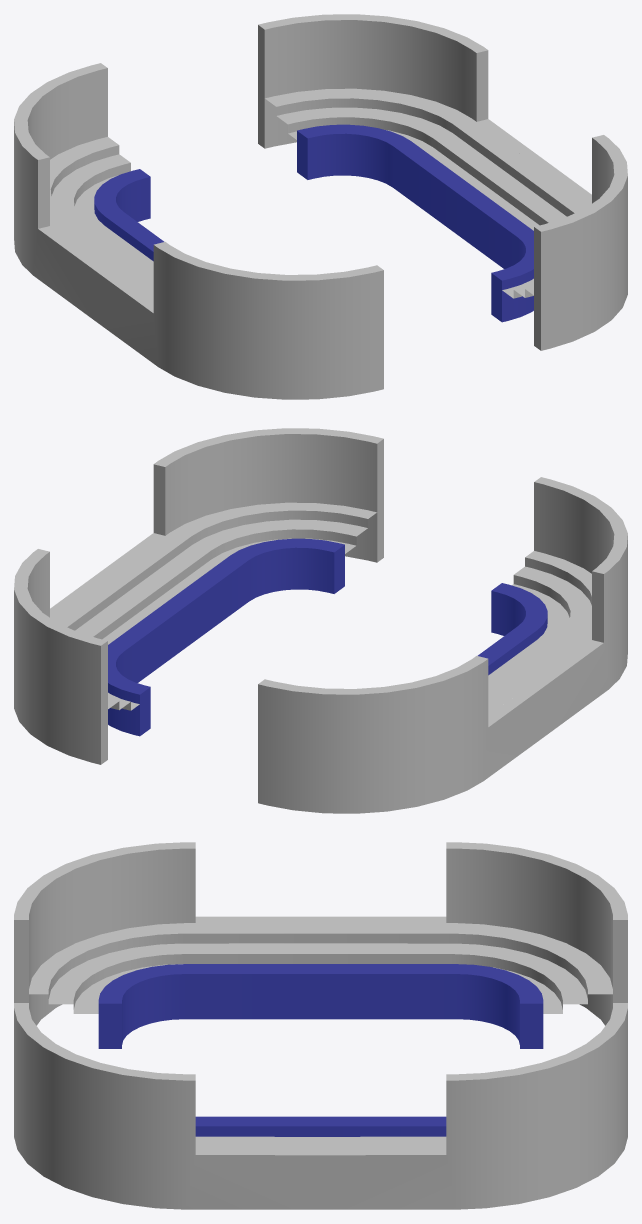
The model's file is Areana_L 1.fbx.
3 views of the same model, one above another, from view 1: azimuth 30°, elevation 25°; view 2: azimuth 150°, elevation 25°; view 3: azimuth 270°, elevation 25° (orthographic). The views are drawn at different scales.
Parts seen in each view (by area): view 1: Cube.086, Cube.040; view 2: Cube.086, Cube.040; view 3: Cube.086, Cube.040.
Boxes of the visible parts, bbox=[...] form: Cube.086: bbox=[14, 14, 627, 399]; Cube.040: bbox=[50, 88, 589, 322]; Cube.086: bbox=[14, 428, 627, 813]; Cube.040: bbox=[52, 502, 591, 736]; Cube.086: bbox=[14, 842, 627, 1209]; Cube.040: bbox=[29, 923, 612, 1148].
Size of the model in its own units: 1137 by 1237 by 287.
